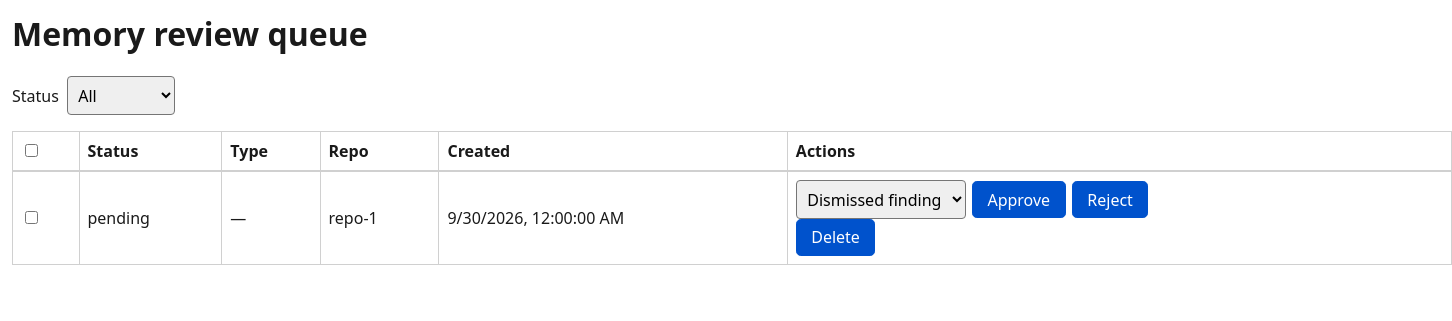
Test: MemoryQueueScreen › Admin: the bulk action bar only appears once an entry is selected
expect the text "repo-1" is shown: met, box [320,172,439,264]
expect the button "approve selected" is not shown: met
Click the checkbox named "select entry entry-1".
click(32, 218)  # box [25,211,38,224]
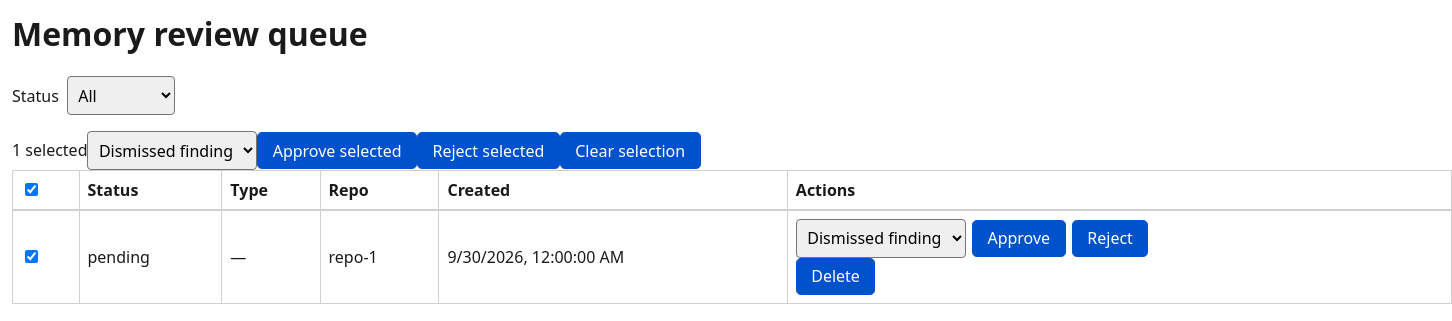
expect the button "Approve selected" is shown: met, box [257,132,417,169]
